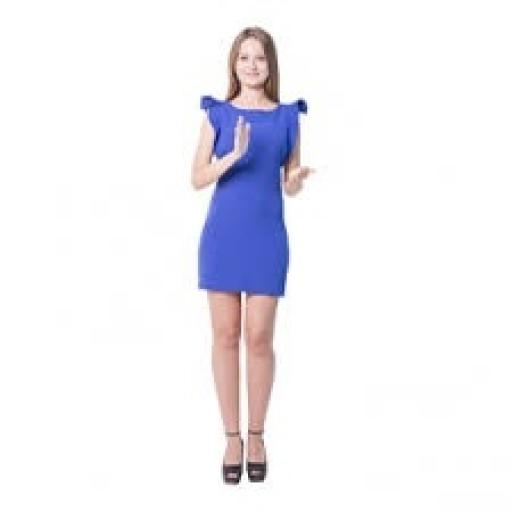clapping: (187, 23, 314, 487)
